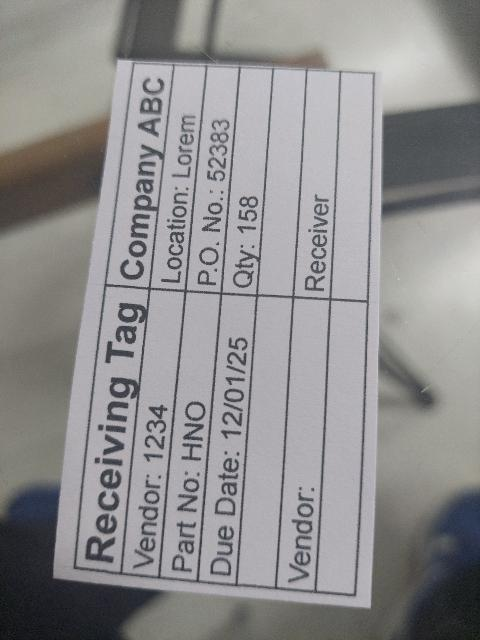PO no: (185, 66, 239, 293)
part no: (159, 291, 222, 581)
qty: (219, 68, 274, 295)
tags: (52, 57, 384, 614)
